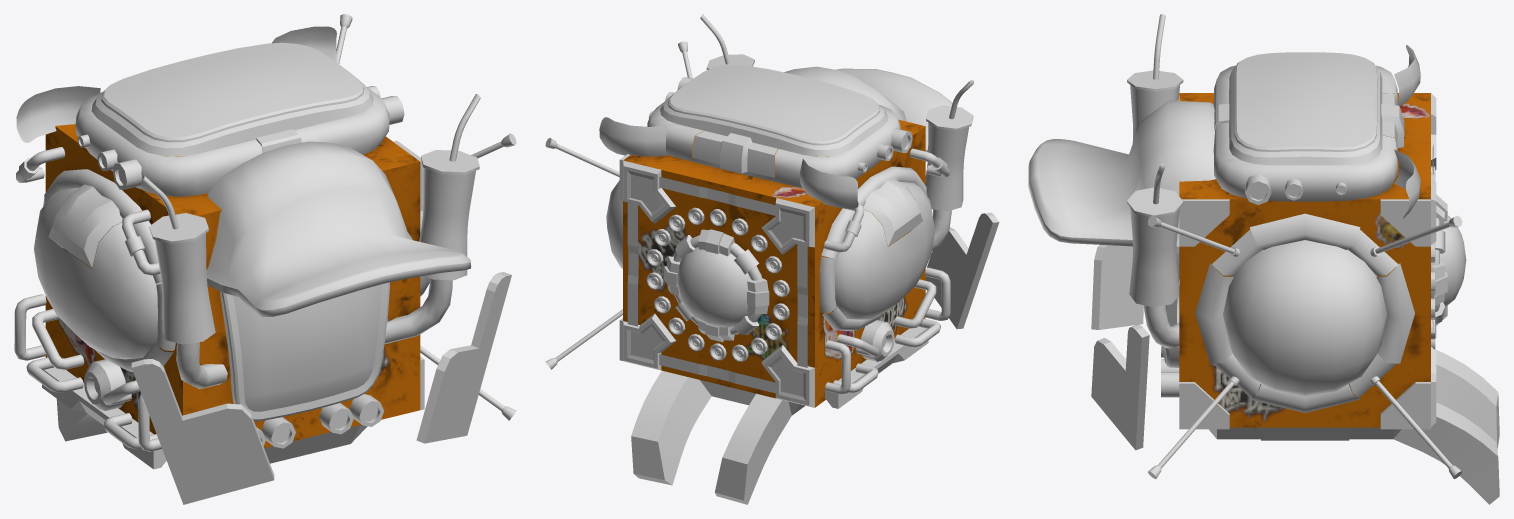
The model's file is Msh_Robot_Final.fbx.
3 renders of one model, left to right at view 1: azimuth 30°, elevation 25°; view 2: azimuth 150°, elevation 25°; view 3: azimuth 270°, elevation 25°, orthographic. The views are drawn at different scales.
Visible parts, largest first — view 1: Msh_Gorra_RobotBaseball, Msh_Monitor_RobotOrejon, CubeDEfault, Msh_Pantalla_RobotBaseball, Msh_GuanteBaseball_RobotBaseball, Msh_Monitor_RobotSubmarino, Msh_Refresco_RobotBaseball, Msh_SoporteMonitor_RobotOrejon, Msh_Tuberias_RobotSubmarino, Msh_Orejas_RobotOrejon, Msh_CurvaRefresco_RobotBaseball, Msh_Marco_RobotSubmarino (+12 smaller); view 2: CubeDEfault, Msh_Monitor_RobotOrejon, Msh_Monitor_Robot, Msh_Corner_RobotEsferosfero, Msh_Monitor_RobotSubmarino, Msh_Marcos_RobotEsferosfero, Msh_Tuberias_RobotSubmarino, Msh_SoporteMonitor_RobotOrejon, Msh_Monitor_RobotEsferosfero, Msh_Redondes_RobotEsferosfero.016, Msh_Gorra_RobotBaseball, Msh_Marco_RobotEsferosfero.001 (+13 smaller); view 3: CubeDEfault, Msh_Monitor_RobotCilinoid, Msh_Monitor_RobotOrejon, Msh_Gorra_RobotBaseball, Msh_Aro_RobotCilinoid, Msh_Monitor_Robot, Msh_GuanteBaseball_RobotBaseball, Msh_SoporteMonitor_RobotOrejon, Msh_Refresco_RobotBaseball, Msh_Corners, Msh_Antenas_RobotCilinoid, Msh_Orejas_RobotOrejon (+8 smaller).
Boxes of the visible parts, x1,y1,x2,y2 form: Msh_Gorra_RobotBaseball: (206, 141, 471, 317); Msh_Monitor_RobotOrejon: (91, 42, 373, 156); CubeDEfault: (45, 124, 420, 448); Msh_Pantalla_RobotBaseball: (220, 282, 390, 421); Msh_GuanteBaseball_RobotBaseball: (131, 272, 511, 504); Msh_Monitor_RobotSubmarino: (34, 188, 161, 359); Msh_Refresco_RobotBaseball: (149, 150, 479, 344); Msh_SoporteMonitor_RobotOrejon: (75, 87, 389, 196); Msh_Tuberias_RobotSubmarino: (14, 147, 161, 451); Msh_Orejas_RobotOrejon: (16, 26, 337, 142); Msh_CurvaRefresco_RobotBaseball: (176, 278, 452, 389); Msh_Marco_RobotSubmarino: (43, 169, 175, 372); CubeDEfault: (623, 119, 925, 407); Msh_Monitor_RobotOrejon: (660, 65, 887, 156); Msh_Monitor_Robot: (631, 370, 805, 504); Msh_Corner_RobotEsferosfero: (623, 160, 814, 407); Msh_Monitor_RobotSubmarino: (827, 181, 934, 319); Msh_Marcos_RobotEsferosfero: (627, 177, 807, 393); Msh_Tuberias_RobotSubmarino: (824, 148, 950, 394); Msh_SoporteMonitor_RobotOrejon: (647, 101, 900, 187); Msh_Monitor_RobotEsferosfero: (676, 247, 750, 327); Msh_Redondes_RobotEsferosfero.016: (646, 207, 789, 362); Msh_Gorra_RobotBaseball: (784, 66, 952, 151); Msh_Marco_RobotEsferosfero.001: (664, 229, 769, 342); CubeDEfault: (1179, 93, 1430, 427); Msh_Monitor_RobotCilinoid: (1223, 240, 1387, 396); Msh_Monitor_RobotOrejon: (1229, 52, 1382, 165); Msh_Gorra_RobotBaseball: (1028, 100, 1215, 252); Msh_Aro_RobotCilinoid: (1195, 213, 1414, 412); Msh_Monitor_Robot: (1209, 349, 1499, 504); Msh_GuanteBaseball_RobotBaseball: (1091, 245, 1149, 450); Msh_SoporteMonitor_RobotOrejon: (1213, 65, 1397, 201); Msh_Refresco_RobotBaseball: (1127, 70, 1183, 307); Msh_Corners: (1179, 199, 1430, 429); Msh_Antenas_RobotCilinoid: (1148, 215, 1462, 479); Msh_Orejas_RobotOrejon: (1394, 45, 1420, 218).
Size of the model in its own units: 165 by 169 by 187.
